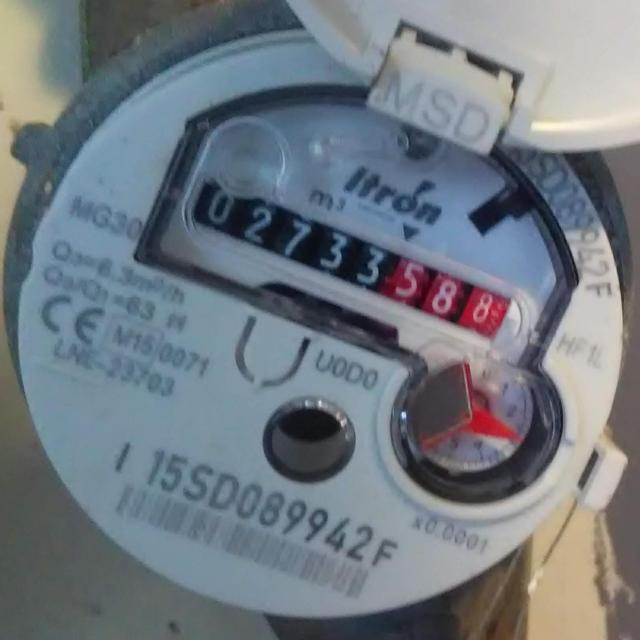gaz_meter: (17, 28, 624, 615)
indication: (190, 170, 513, 341)
